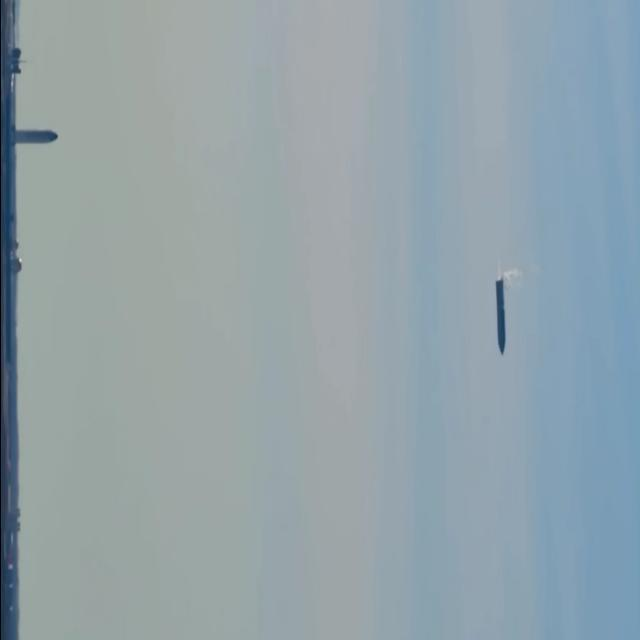Missile: (487, 266, 512, 352)
